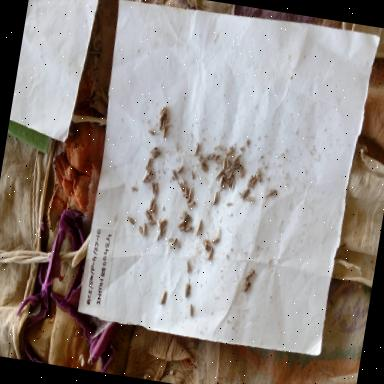pbw: (138, 219, 150, 240), (146, 178, 158, 198), (243, 266, 256, 283), (194, 216, 204, 238), (253, 168, 264, 186), (222, 146, 234, 162), (197, 160, 210, 174), (242, 192, 256, 205), (142, 154, 152, 172), (211, 166, 222, 182), (140, 166, 150, 183), (152, 214, 162, 231), (186, 302, 195, 320), (210, 190, 220, 206), (152, 228, 162, 244), (239, 187, 250, 201), (182, 279, 190, 298), (192, 138, 200, 157), (183, 258, 193, 273), (136, 223, 146, 238), (210, 151, 222, 163), (146, 197, 155, 213), (125, 212, 137, 224), (266, 186, 278, 198), (178, 220, 188, 234), (158, 216, 168, 230), (220, 156, 227, 176), (200, 237, 209, 252), (229, 160, 240, 172), (185, 198, 196, 210), (150, 148, 161, 160), (231, 152, 241, 165), (143, 208, 153, 221), (217, 174, 225, 190), (226, 173, 234, 189), (242, 276, 250, 292), (149, 201, 157, 217), (245, 172, 253, 188), (160, 123, 167, 141), (176, 216, 185, 230), (249, 174, 258, 188), (238, 162, 245, 180), (182, 222, 192, 234), (210, 234, 220, 246), (181, 184, 189, 199), (176, 162, 184, 177), (206, 245, 213, 262), (243, 280, 252, 293), (189, 168, 197, 182), (223, 156, 231, 170), (226, 168, 234, 182), (145, 168, 153, 182), (220, 175, 227, 191), (160, 112, 168, 126), (196, 153, 207, 163), (170, 168, 179, 180), (205, 236, 213, 249), (160, 288, 166, 305), (130, 184, 140, 194), (166, 236, 176, 246), (205, 152, 215, 162), (148, 145, 157, 156), (158, 103, 166, 115), (186, 188, 192, 204), (178, 180, 186, 192), (152, 181, 158, 195), (157, 117, 163, 131), (146, 129, 156, 137), (147, 218, 157, 226)
